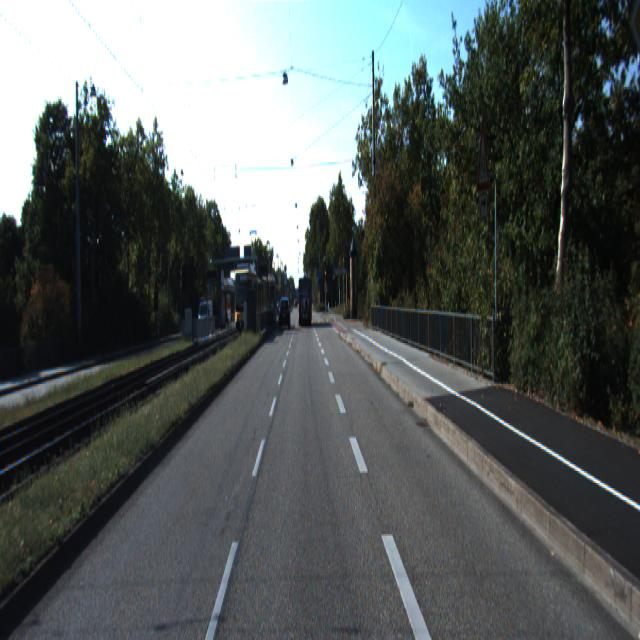Car: (233, 266, 264, 336), (298, 276, 312, 328), (279, 298, 290, 330)
